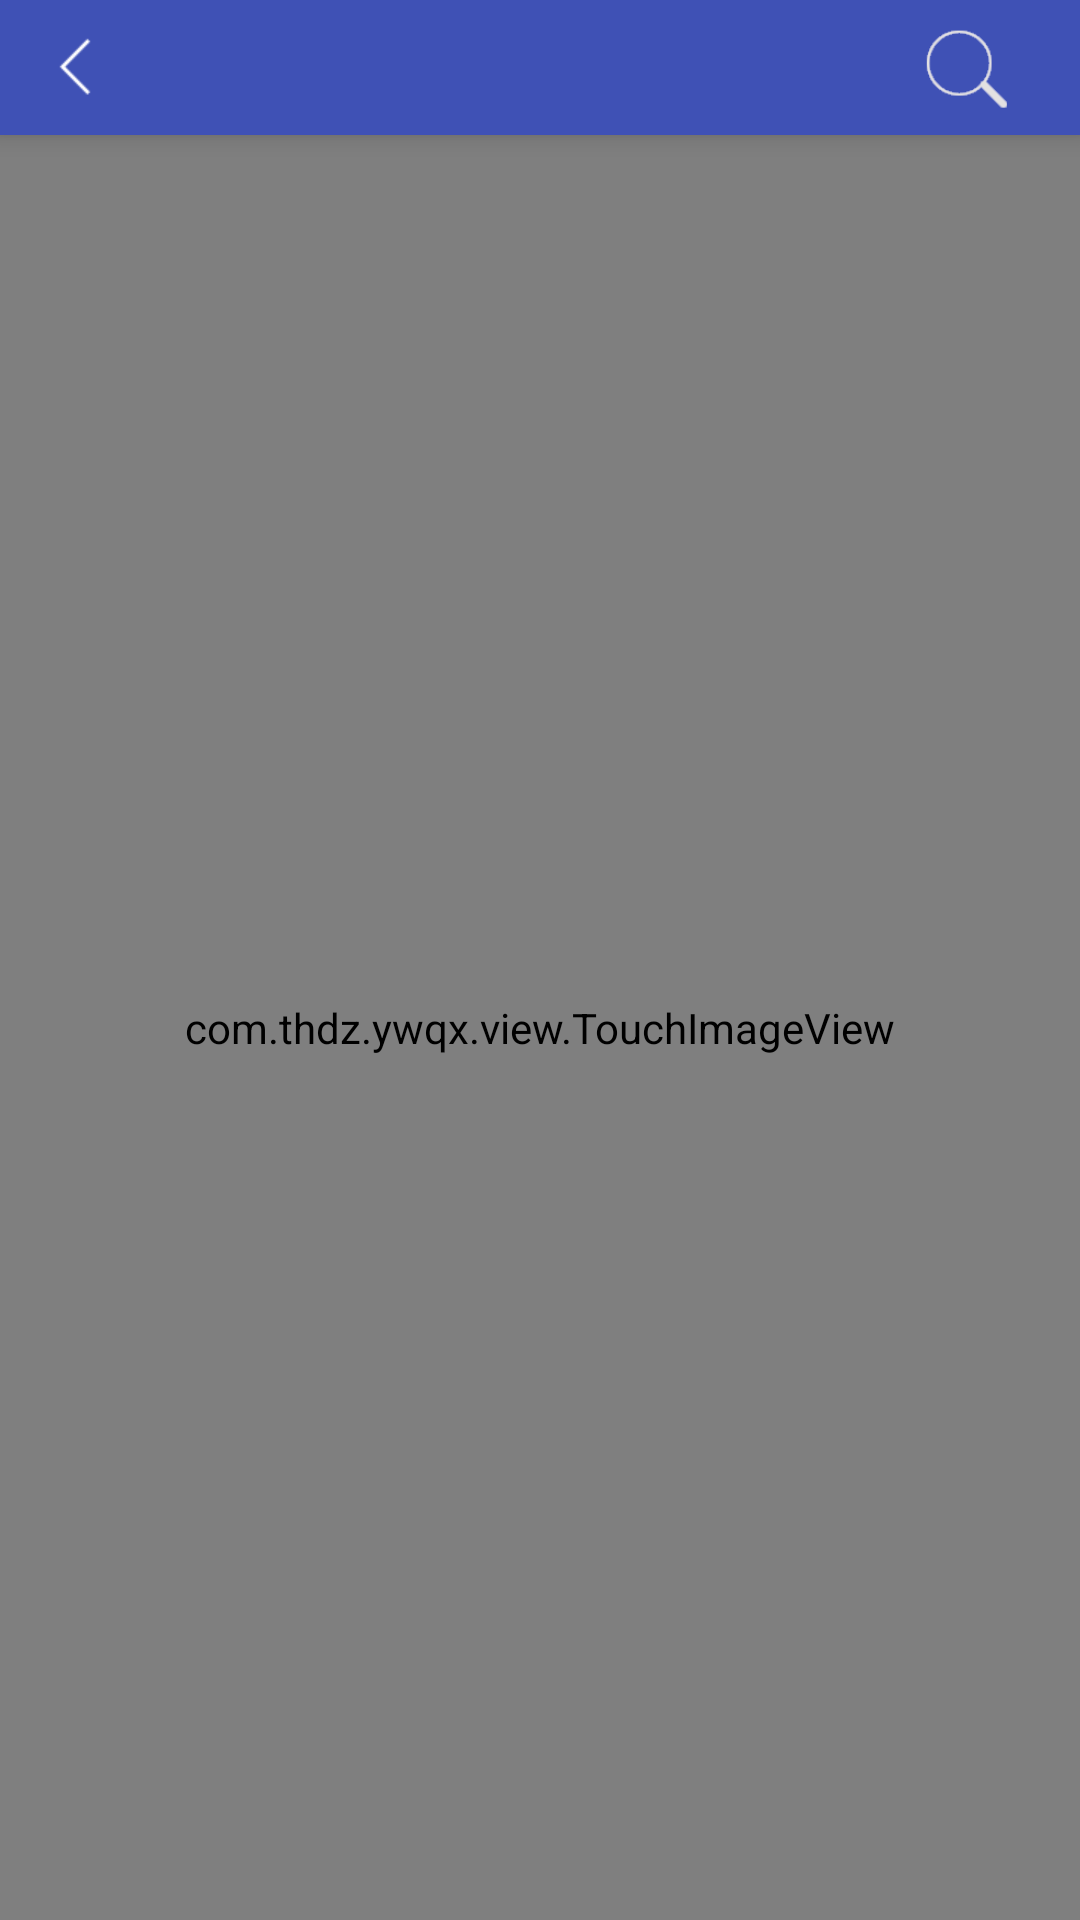

Where icons sit on this 1080*1920 app screen, as (x1, y1, x2, y2):
fanhui: (60, 39, 90, 95)
search: (926, 30, 1007, 108)
